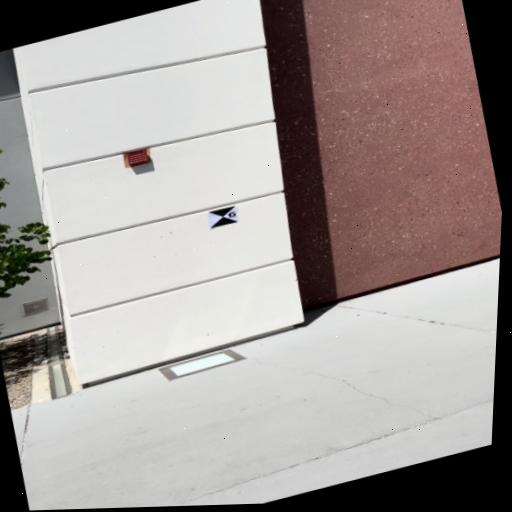target6: (209, 204, 239, 229)
